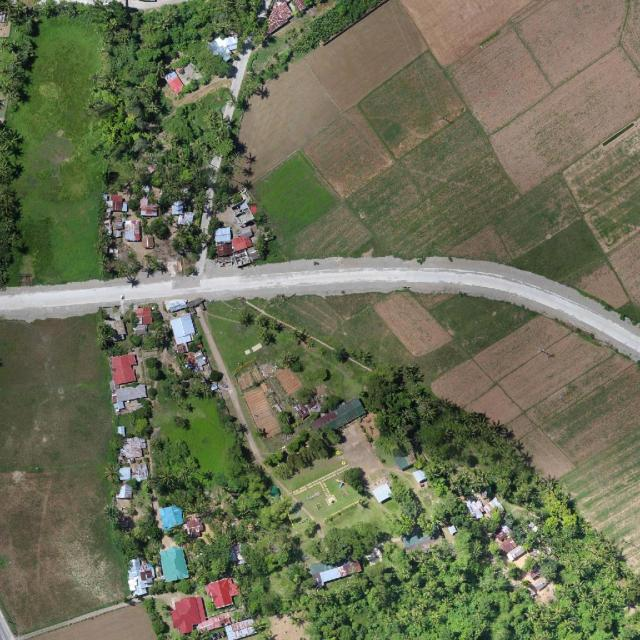agricultural_land: (273, 180, 640, 552), (0, 312, 130, 634), (28, 602, 156, 639)
building: (99, 160, 278, 289), (458, 478, 565, 603), (287, 369, 375, 451), (104, 337, 169, 416), (115, 425, 159, 519), (163, 311, 213, 386), (312, 542, 382, 590), (146, 500, 209, 541), (168, 593, 211, 635), (123, 558, 159, 600), (204, 576, 243, 611), (159, 544, 189, 581), (104, 310, 128, 348), (132, 306, 153, 339)
greenland: (161, 294, 485, 540)
